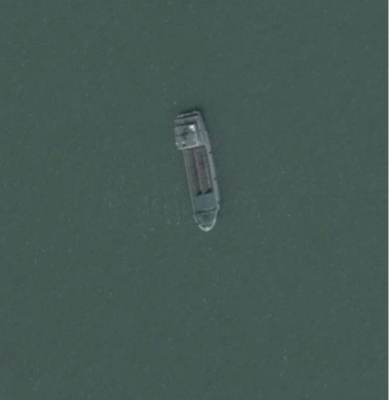boat: (172, 109, 222, 232)
